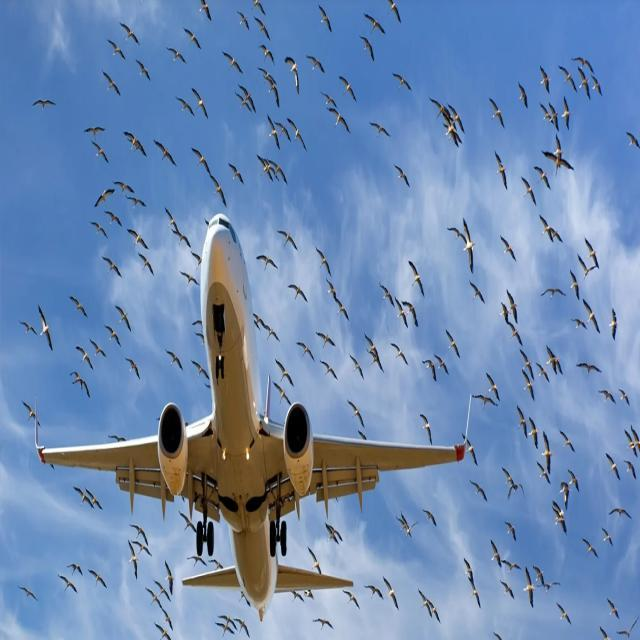bird: (106, 39, 153, 82), (122, 123, 146, 159), (504, 471, 528, 506), (396, 511, 418, 548), (284, 50, 302, 94), (542, 153, 578, 174), (154, 140, 177, 170), (38, 304, 52, 351), (18, 316, 38, 348), (314, 244, 335, 274), (89, 563, 108, 596), (586, 231, 604, 264), (548, 505, 569, 533), (117, 22, 141, 46), (326, 108, 350, 132), (472, 394, 496, 418), (520, 374, 538, 406), (463, 220, 474, 272), (542, 428, 556, 468), (210, 176, 228, 207), (614, 616, 637, 640), (444, 331, 463, 360), (367, 353, 386, 382), (274, 359, 296, 384), (495, 152, 509, 191), (381, 578, 397, 612), (586, 296, 600, 334), (533, 162, 552, 190), (363, 13, 387, 35), (221, 51, 243, 75), (538, 578, 562, 600), (181, 26, 202, 51), (338, 586, 359, 611), (101, 71, 121, 97), (112, 305, 132, 331), (70, 373, 92, 396), (256, 250, 278, 273), (523, 566, 534, 612), (94, 186, 115, 210), (101, 256, 122, 280), (361, 330, 382, 354), (534, 460, 552, 488), (521, 177, 537, 208), (489, 99, 505, 130), (338, 75, 357, 101), (501, 234, 518, 263), (192, 150, 210, 177), (257, 155, 275, 182), (126, 228, 148, 250), (391, 72, 414, 93), (407, 294, 422, 326), (89, 482, 105, 512), (508, 288, 523, 320), (546, 344, 562, 374), (557, 66, 577, 90), (537, 214, 552, 246), (68, 292, 86, 318), (291, 118, 309, 144), (60, 575, 78, 601), (190, 357, 208, 383), (317, 5, 333, 34), (378, 280, 394, 309), (163, 349, 184, 371), (466, 432, 480, 465), (609, 505, 632, 525), (190, 88, 207, 115), (105, 207, 124, 231), (578, 67, 590, 105), (515, 403, 528, 438), (323, 276, 338, 306), (348, 354, 364, 382), (74, 485, 90, 513), (274, 158, 290, 186), (76, 344, 93, 370), (168, 230, 194, 247), (589, 74, 606, 100), (134, 253, 155, 274), (177, 268, 198, 289), (84, 118, 106, 138), (90, 140, 110, 162), (392, 344, 411, 367), (606, 454, 621, 483), (490, 367, 504, 398), (30, 95, 54, 113), (470, 481, 488, 505), (176, 95, 194, 119), (419, 412, 432, 445), (348, 400, 365, 425), (305, 54, 326, 74), (436, 346, 450, 376), (452, 96, 466, 126), (89, 218, 108, 240), (131, 517, 150, 539), (363, 584, 382, 606), (360, 35, 376, 61), (504, 555, 522, 578), (163, 206, 180, 230), (126, 544, 138, 578), (266, 117, 279, 148), (560, 432, 576, 457), (316, 330, 336, 350), (257, 42, 276, 63), (336, 299, 354, 321), (296, 338, 314, 360), (325, 524, 343, 546), (538, 356, 549, 392), (386, 0, 403, 23), (368, 120, 391, 137), (394, 297, 406, 329), (528, 416, 540, 448), (128, 195, 148, 214), (134, 540, 154, 559), (562, 94, 572, 132), (166, 46, 187, 64), (497, 578, 515, 599), (470, 279, 485, 304), (444, 124, 461, 146), (394, 165, 410, 188), (124, 355, 140, 378), (105, 325, 121, 348), (265, 321, 281, 344), (276, 116, 290, 142), (488, 542, 501, 570), (430, 591, 441, 624), (278, 229, 297, 248), (573, 51, 592, 70), (557, 604, 572, 628), (22, 402, 40, 422), (166, 558, 176, 594), (421, 358, 436, 382), (508, 322, 526, 342), (549, 100, 561, 130), (321, 361, 337, 383), (578, 363, 601, 378), (115, 178, 134, 196), (274, 385, 292, 404), (569, 271, 580, 302), (583, 541, 599, 562), (504, 520, 518, 544), (560, 479, 572, 507), (472, 585, 484, 613), (430, 94, 446, 115), (422, 509, 437, 531), (91, 338, 106, 360), (447, 220, 462, 242), (416, 591, 429, 616), (539, 66, 551, 93), (17, 587, 36, 604), (199, 0, 213, 23), (600, 388, 614, 411), (228, 164, 244, 184), (255, 18, 271, 38), (579, 250, 589, 282), (461, 554, 474, 578), (290, 285, 308, 302), (216, 623, 234, 640), (179, 515, 195, 534), (410, 263, 422, 288), (237, 11, 252, 31), (498, 304, 510, 329), (522, 349, 535, 372), (617, 388, 630, 411), (68, 558, 82, 579), (186, 556, 207, 570), (318, 90, 336, 106), (568, 468, 580, 492), (237, 617, 250, 639), (146, 586, 160, 606), (572, 316, 586, 336), (540, 102, 550, 130), (518, 83, 529, 108), (535, 558, 546, 583), (602, 529, 615, 550), (627, 131, 640, 152), (610, 311, 619, 341), (234, 93, 246, 115), (552, 136, 564, 158), (154, 624, 170, 640), (218, 611, 236, 625), (316, 617, 333, 631), (156, 581, 169, 599), (262, 66, 276, 82), (543, 288, 563, 299), (246, 84, 256, 105), (311, 554, 321, 573), (609, 603, 619, 621), (165, 611, 176, 627), (210, 559, 223, 572), (552, 228, 562, 244), (268, 84, 279, 98), (254, 308, 262, 326)
